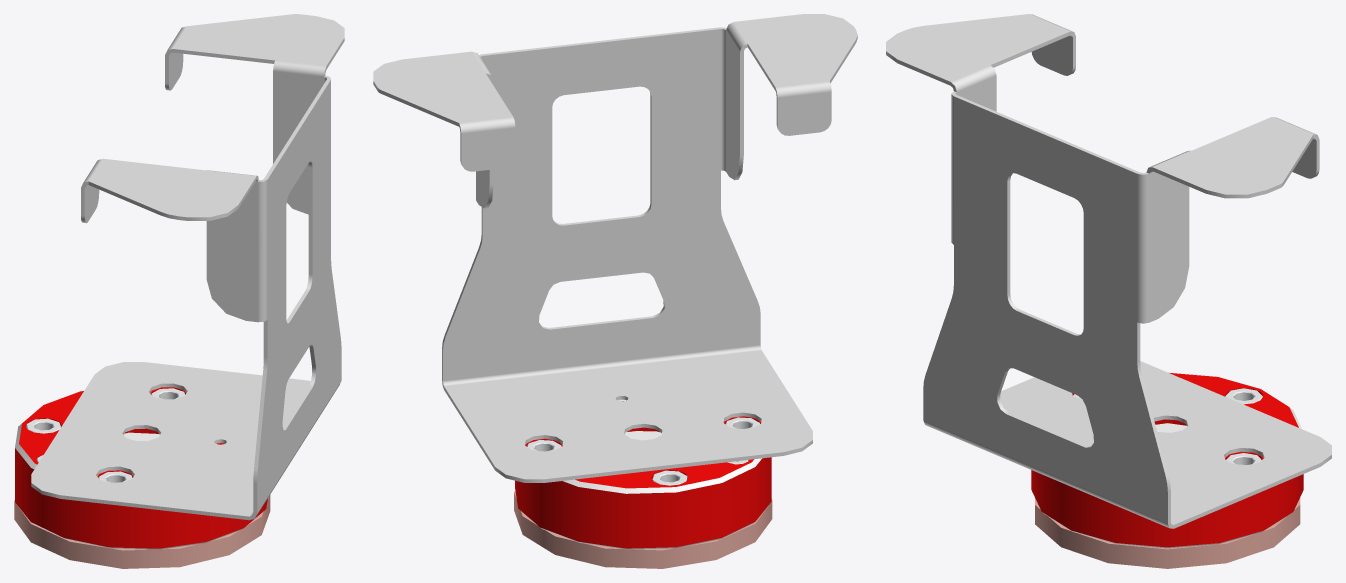
The model's file is flange.dae.
3 views of the same model, side by side, from view 1: azimuth 30°, elevation 25°; view 2: azimuth 150°, elevation 25°; view 3: azimuth 270°, elevation 25° (orthographic). The views are drawn at different scales.
Parts seen in each view (by area): view 1: ef_finger_sm_n_2, 3dof_wrist_assy_r_2; view 2: ef_finger_sm_n_2, 3dof_wrist_assy_r_2; view 3: ef_finger_sm_n_2, 3dof_wrist_assy_r_2.
Boxes of the visible parts, left/top/right/bottom form: ef_finger_sm_n_2: left=31, top=14, right=344, bottom=520; 3dof_wrist_assy_r_2: left=14, top=387, right=270, bottom=568; ef_finger_sm_n_2: left=373, top=14, right=857, bottom=482; 3dof_wrist_assy_r_2: left=514, top=399, right=772, bottom=568; ef_finger_sm_n_2: left=886, top=14, right=1331, bottom=528; 3dof_wrist_assy_r_2: left=1031, top=373, right=1303, bottom=568.
Bounding box in the file's own units: 103 × 103 × 111.
